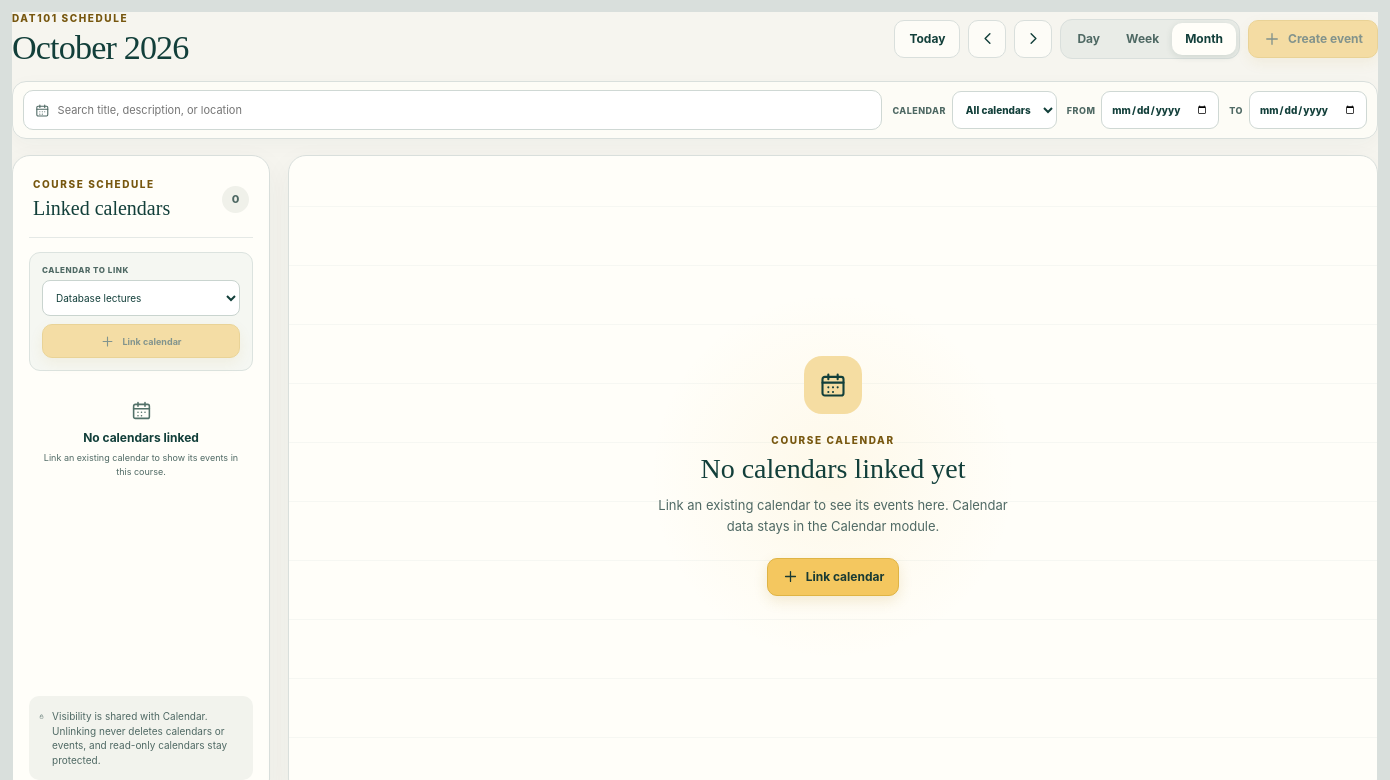
Scenario: CourseCalendar › links and unlinks an existing calendar without deleting its events
This screenshot has width=1390, height=780.
Check: the heading "No calendars linked yet" is shown, box [700,453,966,485]
Select "Database lectures" in the dropdown labelled "Calendar to link" at (141, 298), box [42,280,240,316]
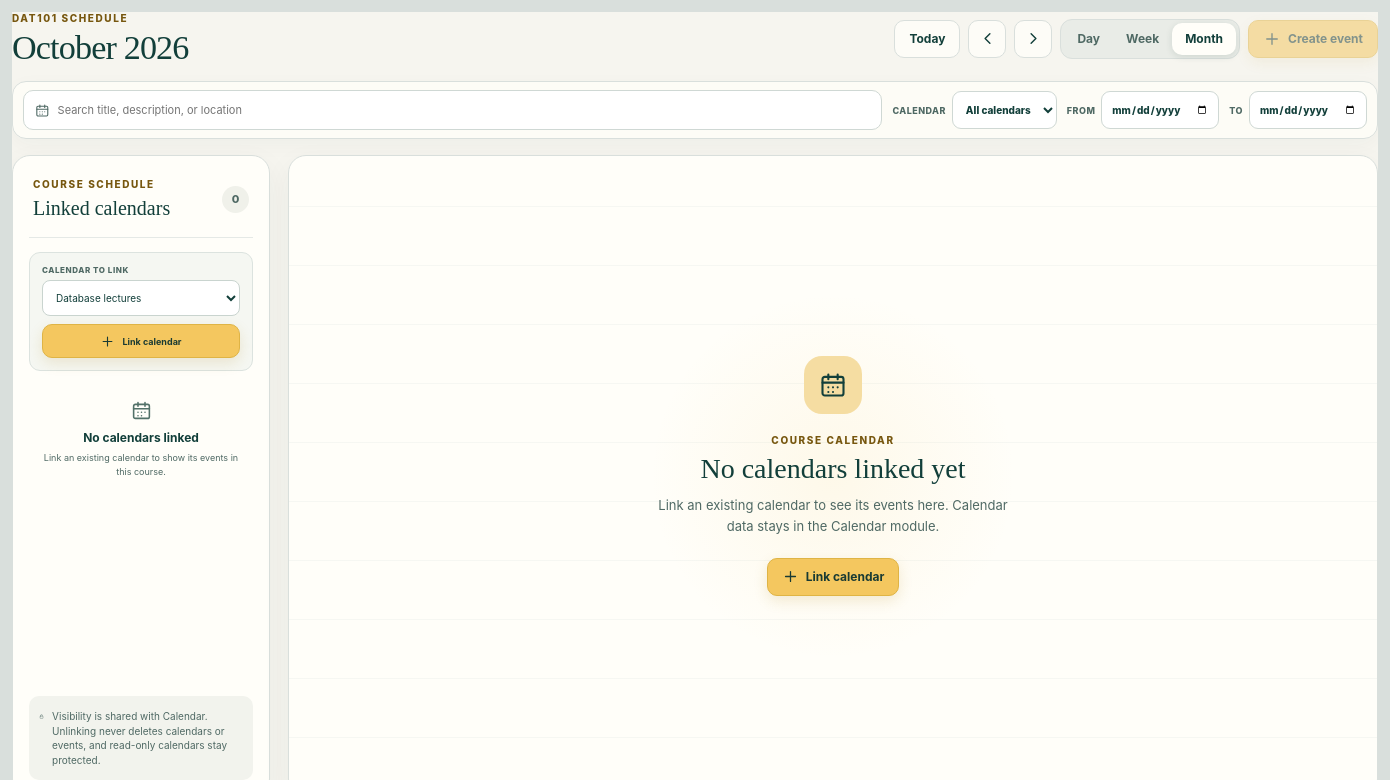
Click the button "Link calendar" below "Calendar to link" at (141, 341), box [42,324,240,358]
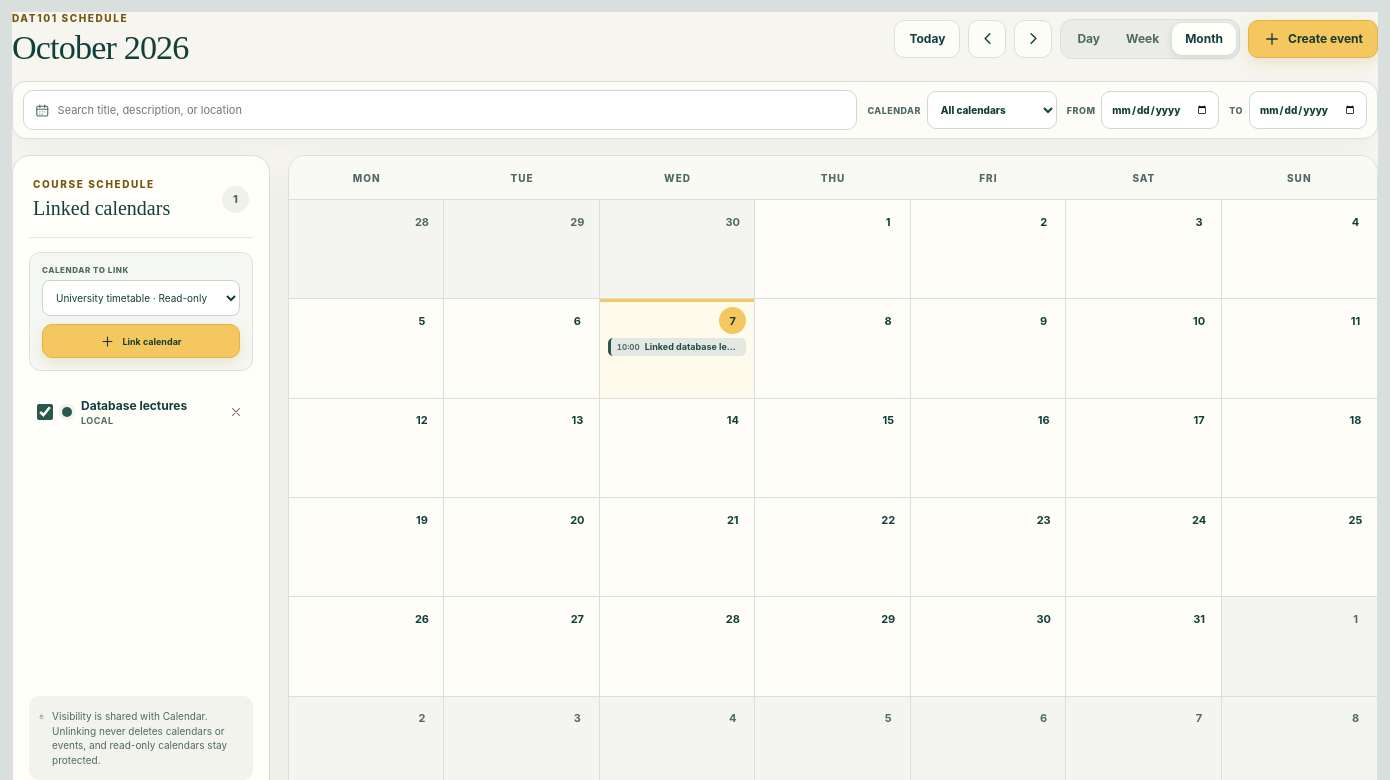
Check: the text "Linked database lecture" is shown, box [645,342,740,352]
Click the button named "Unlink Database lectures" at (236, 412), box [222,399,249,426]
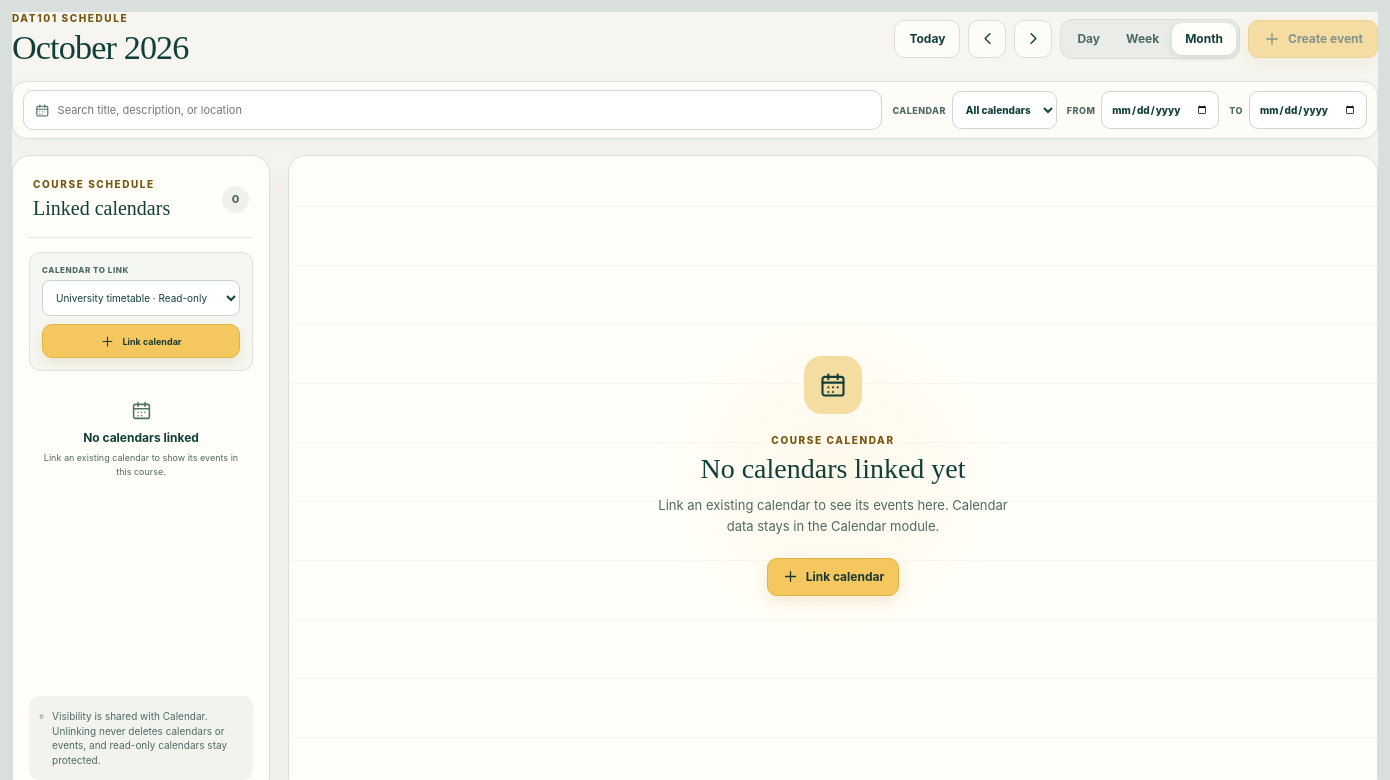
Check: the button "Linked database lecture" is gone
Check: the heading "No calendars linked yet" is shown, box [700,453,966,485]
